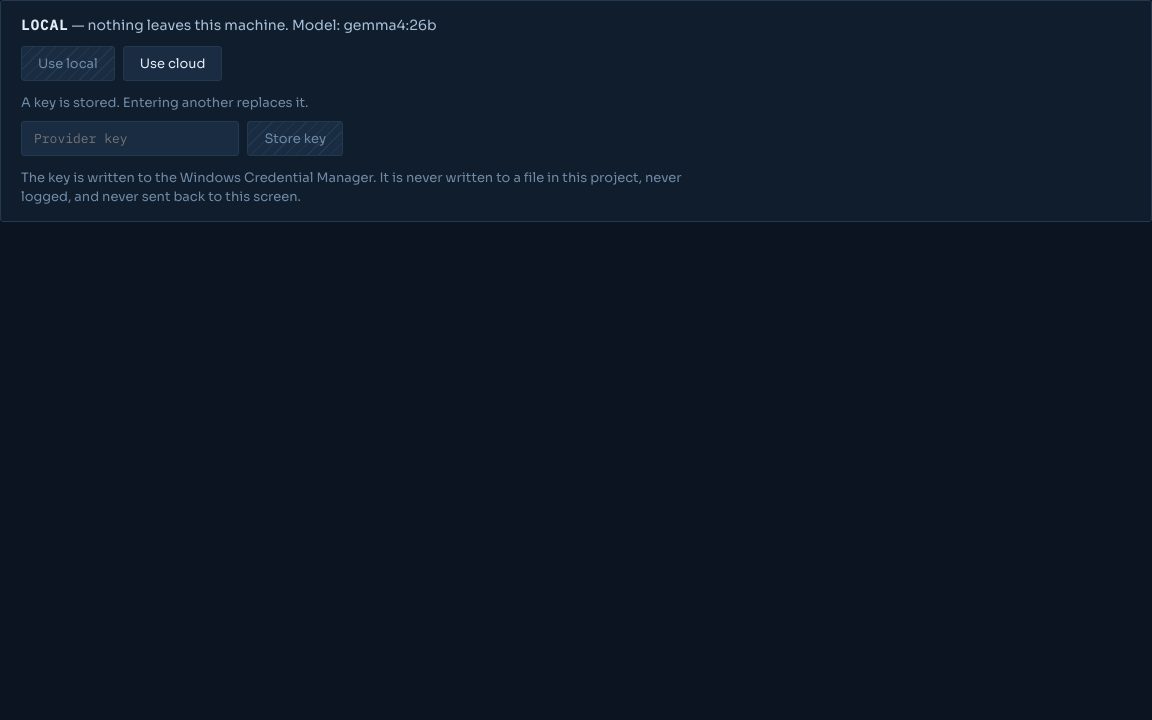
Test case: moving to cloud › leaves the boundary alone when the user backs out
Click the button "Use cloud".
click(173, 64)  # box [123, 46, 222, 81]
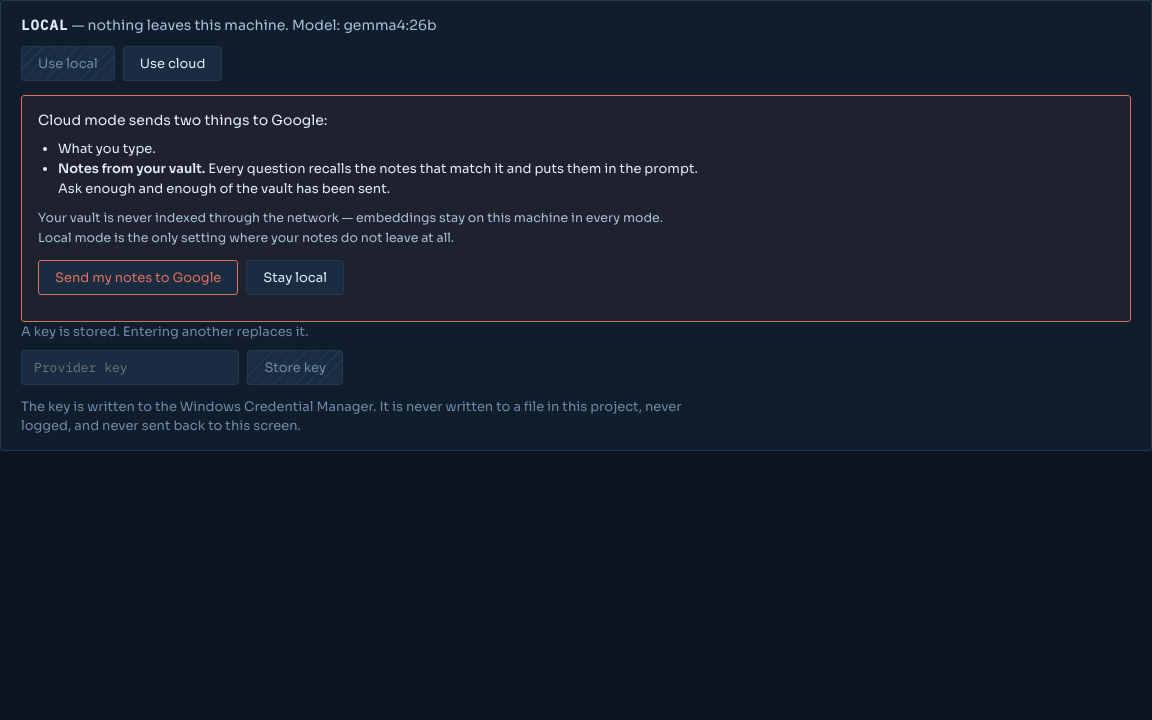
Click the button "Stay local".
click(295, 278)  # box [246, 260, 344, 295]
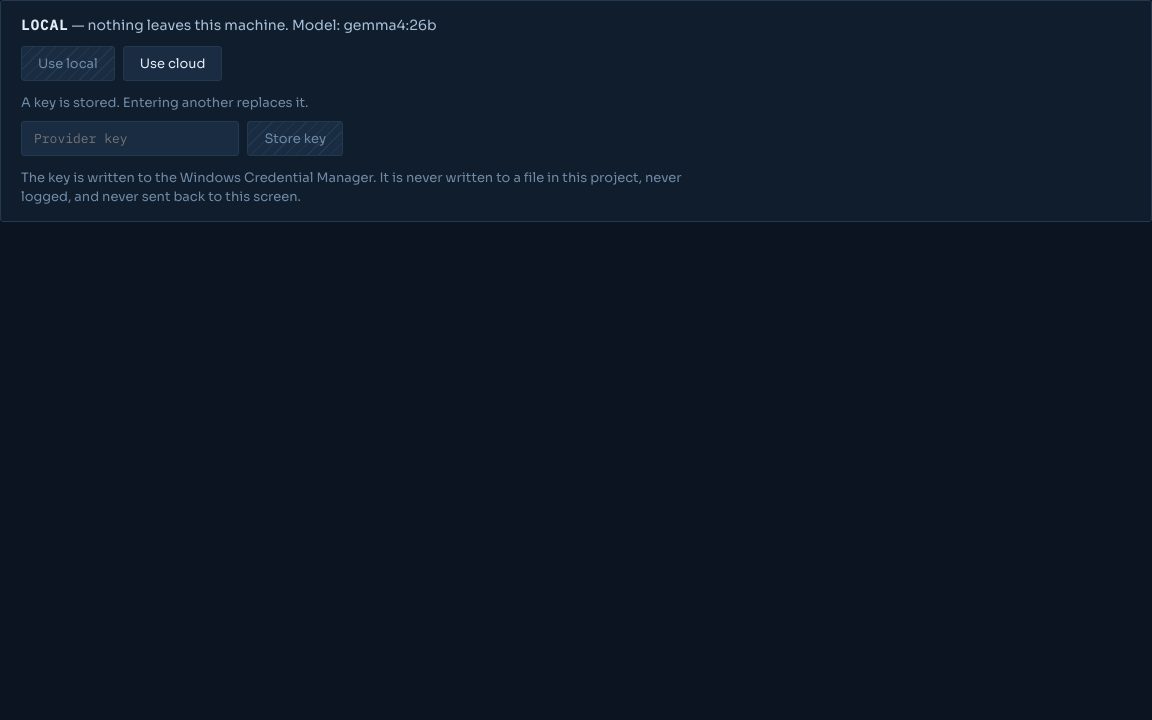
Now the text "Notes from your vault" is gone
